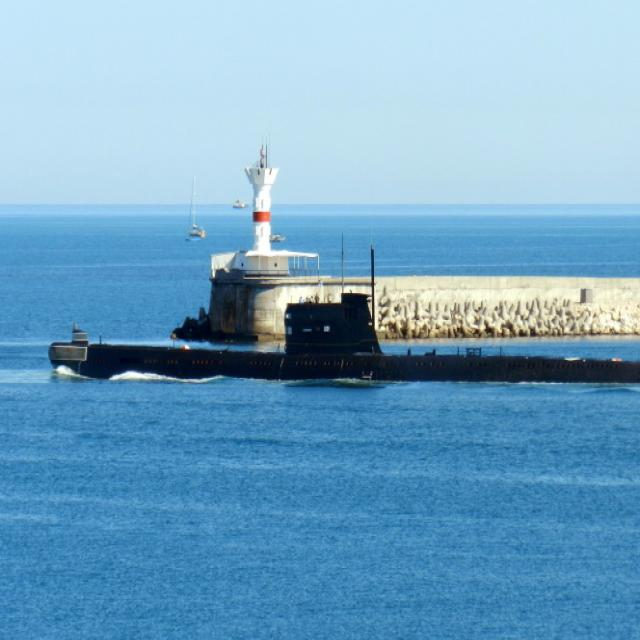submarine: (20, 293, 640, 381)
